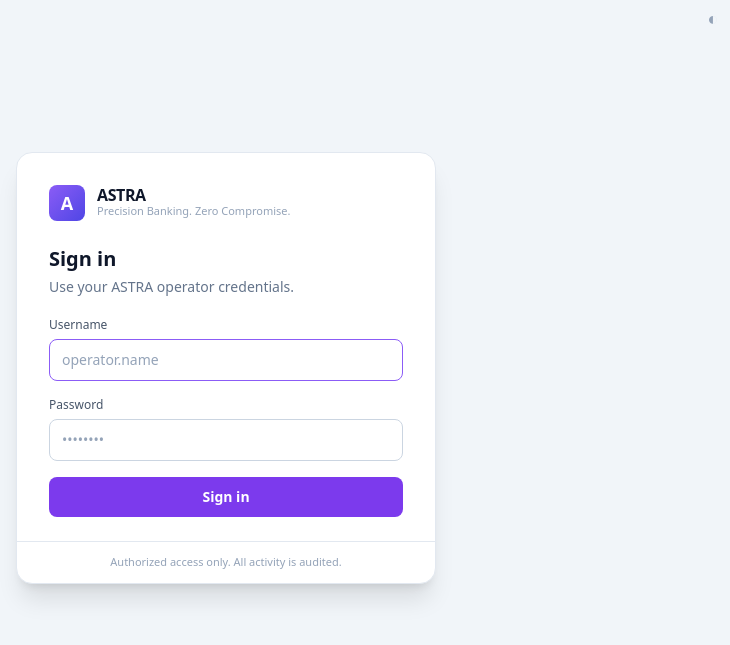
Test: LoginPage › shows a uniform error on invalid credentials (401)
The image size is (730, 645).
Step 1. Type "ops1" into the field with placeholder "operator.name" → (226, 360), box [49,339,403,381]
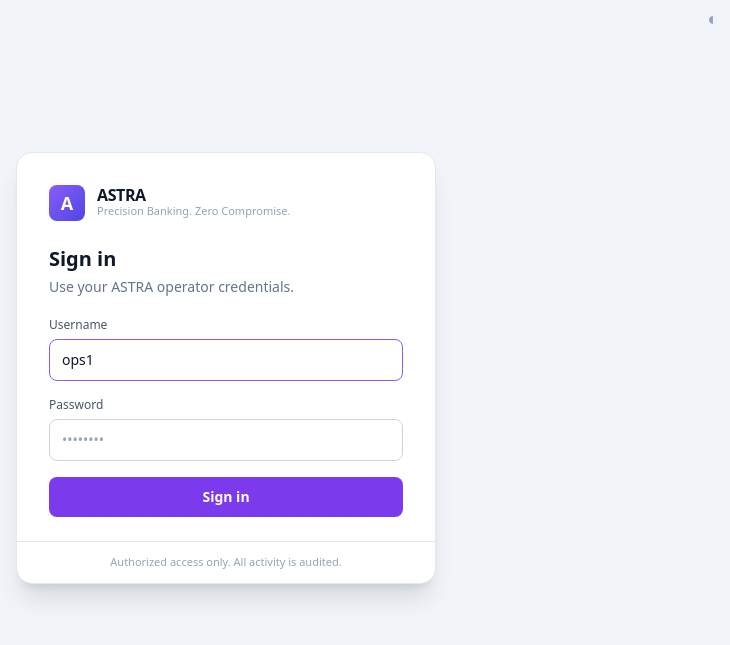
Step 2. Type "pw" into the password field with placeholder "••••••••" → (226, 440), box [49,419,403,461]
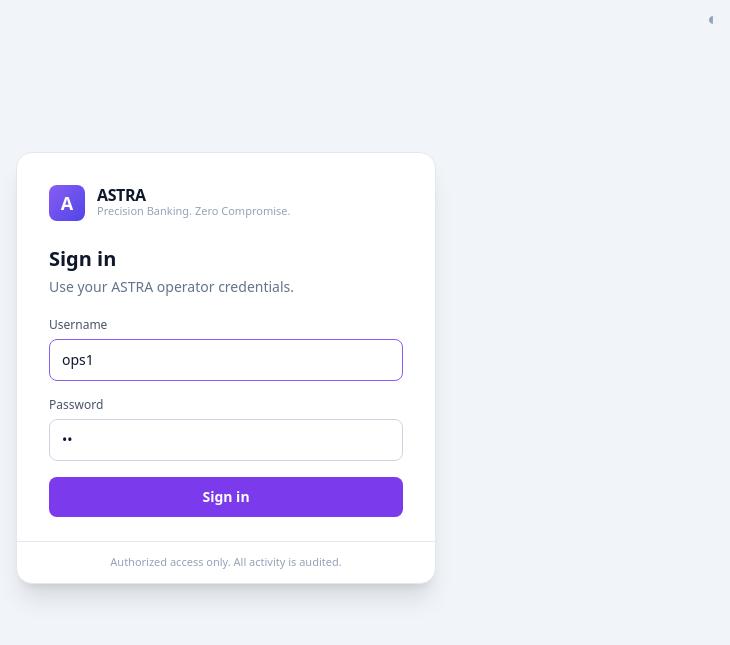
Step 3. Click the button "Sign in" → (226, 497), box [49,477,403,517]
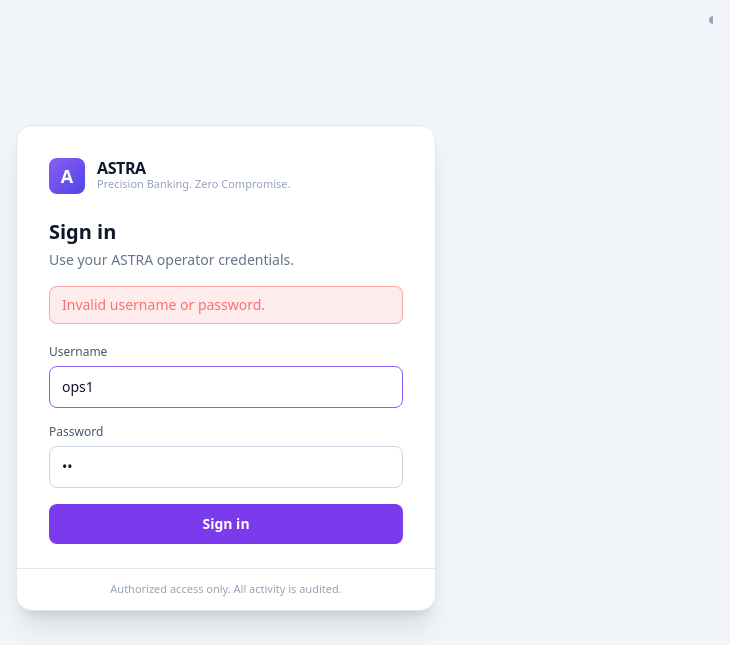
Result: the text "Invalid username or password." is shown at [49,286,403,324]
